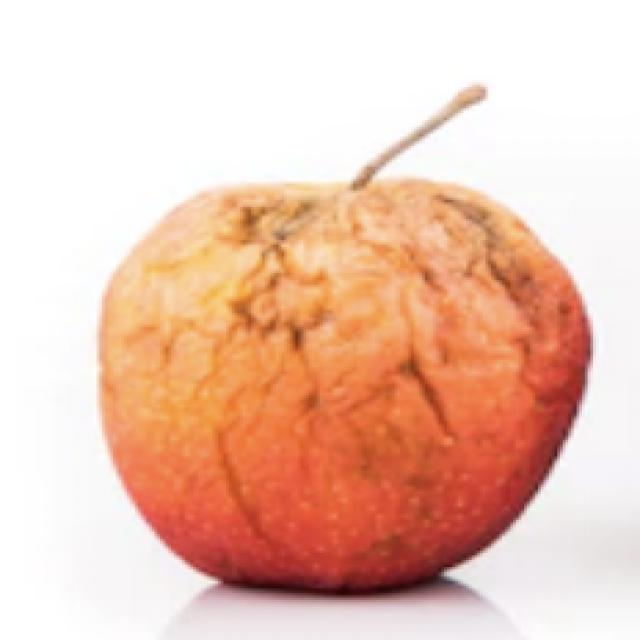rotten_apple: (92, 122, 592, 593)
